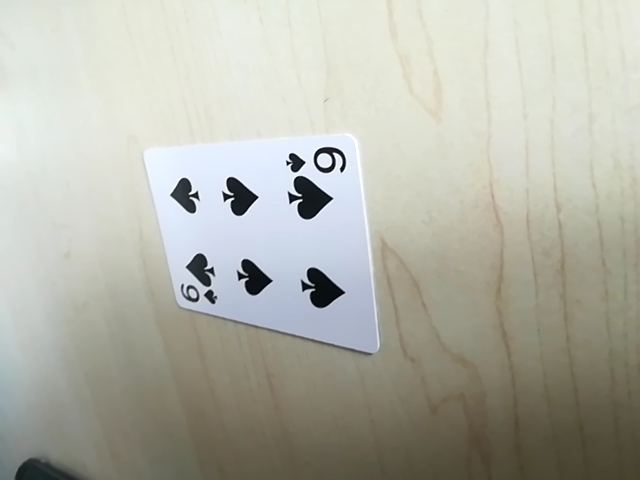ht 6: (288, 145, 348, 178), (173, 272, 218, 310)
